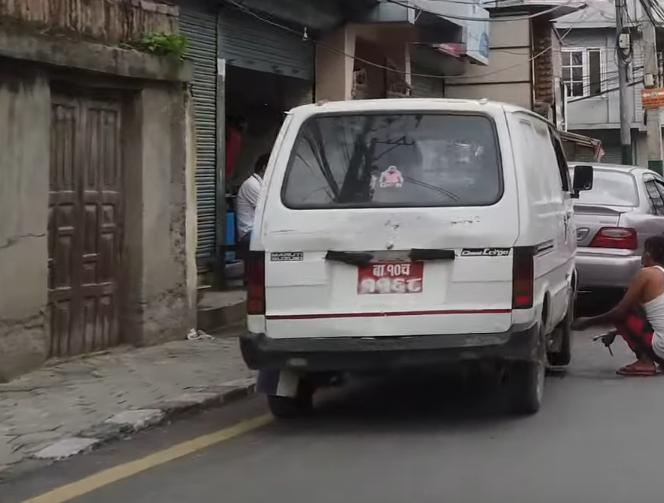car: (554, 157, 664, 299)
van: (239, 85, 579, 431)
